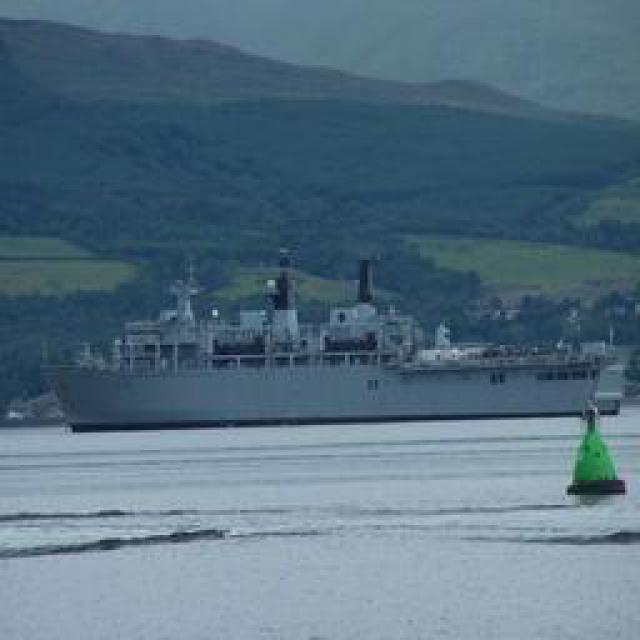Ship: (48, 253, 633, 431)
